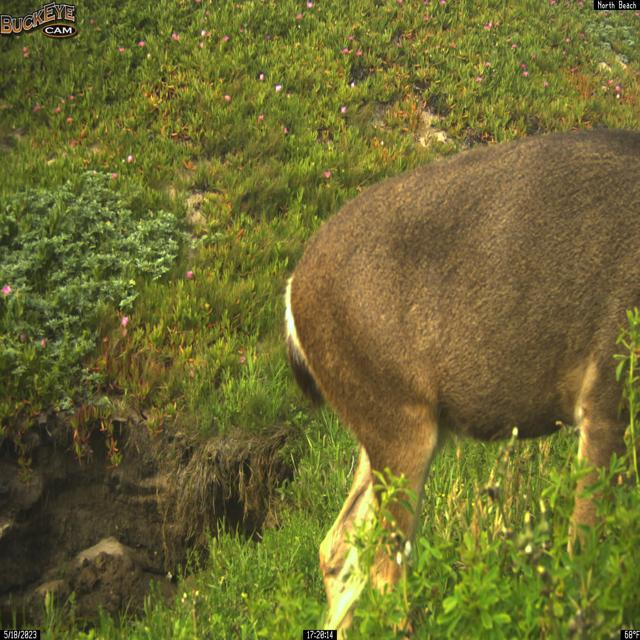deer: (282, 125, 640, 638)
